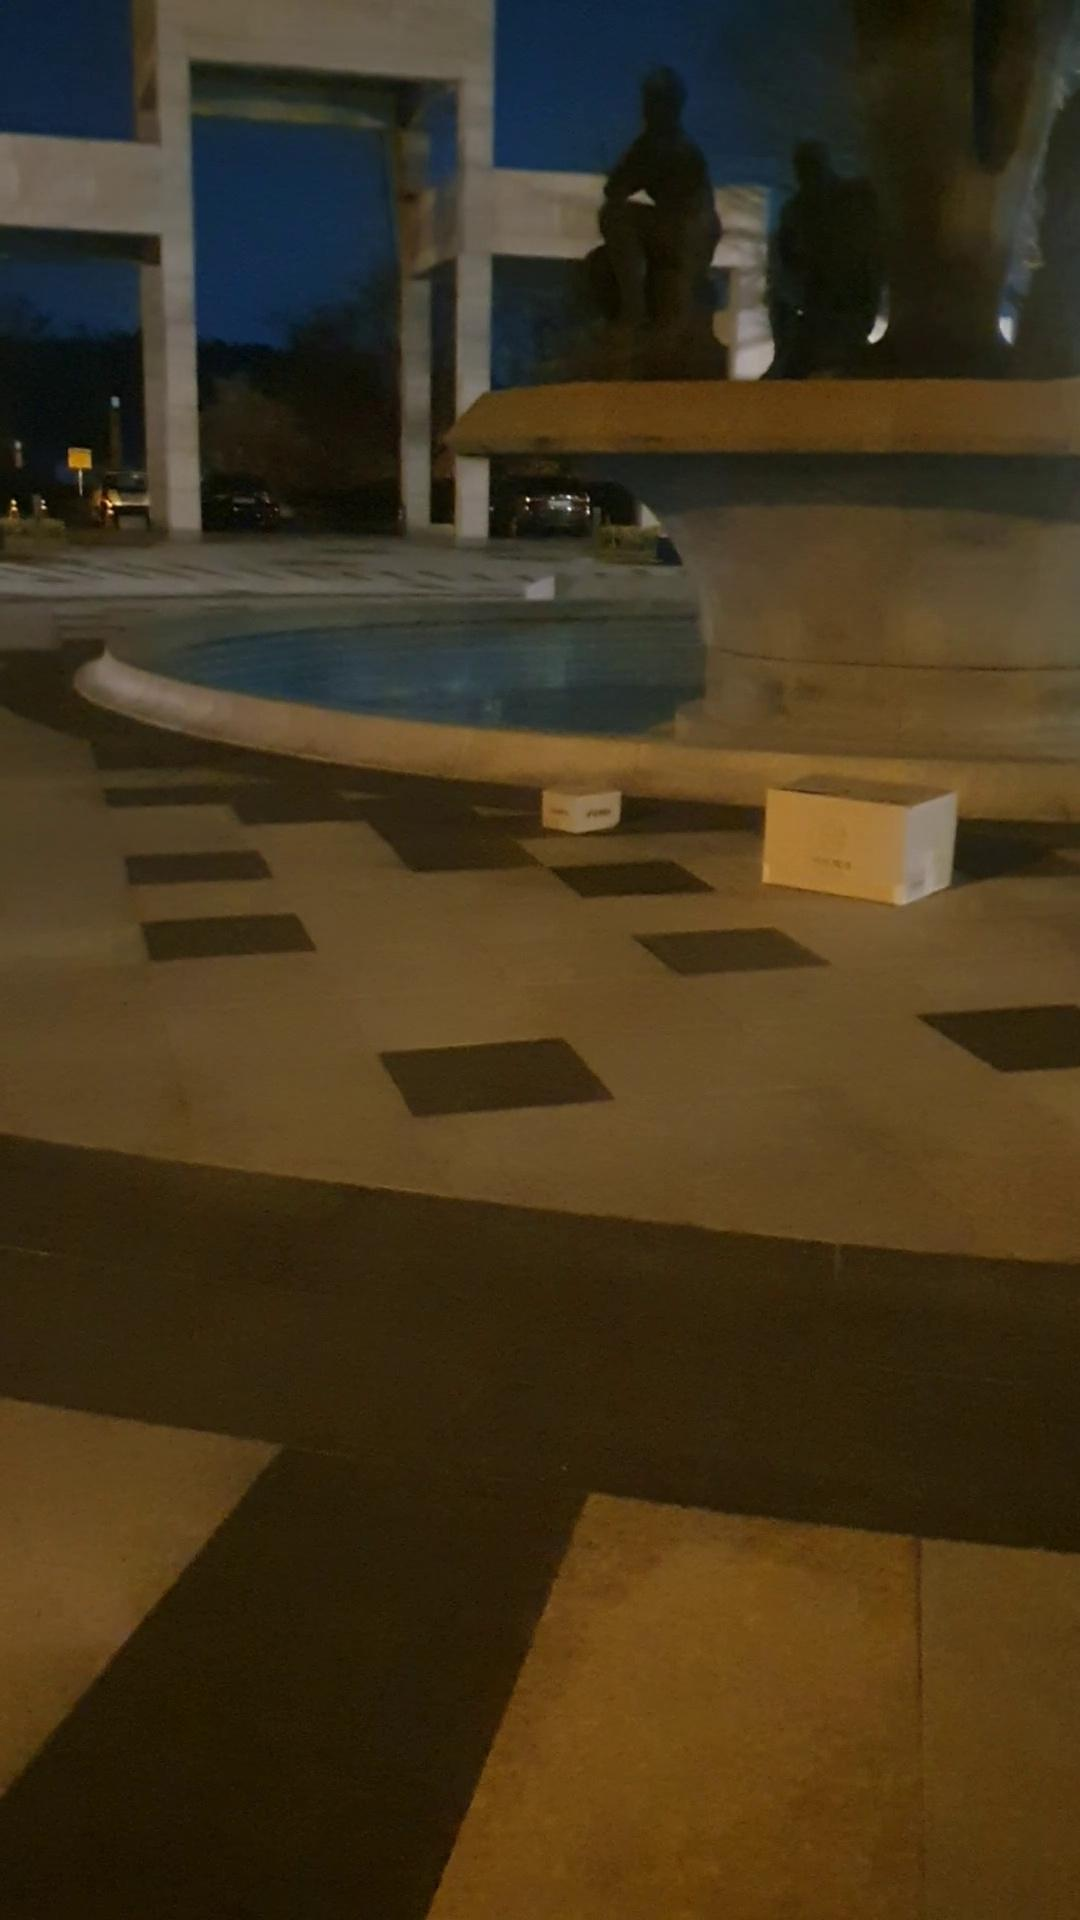Box: (741, 750, 977, 927), (508, 767, 657, 887)
